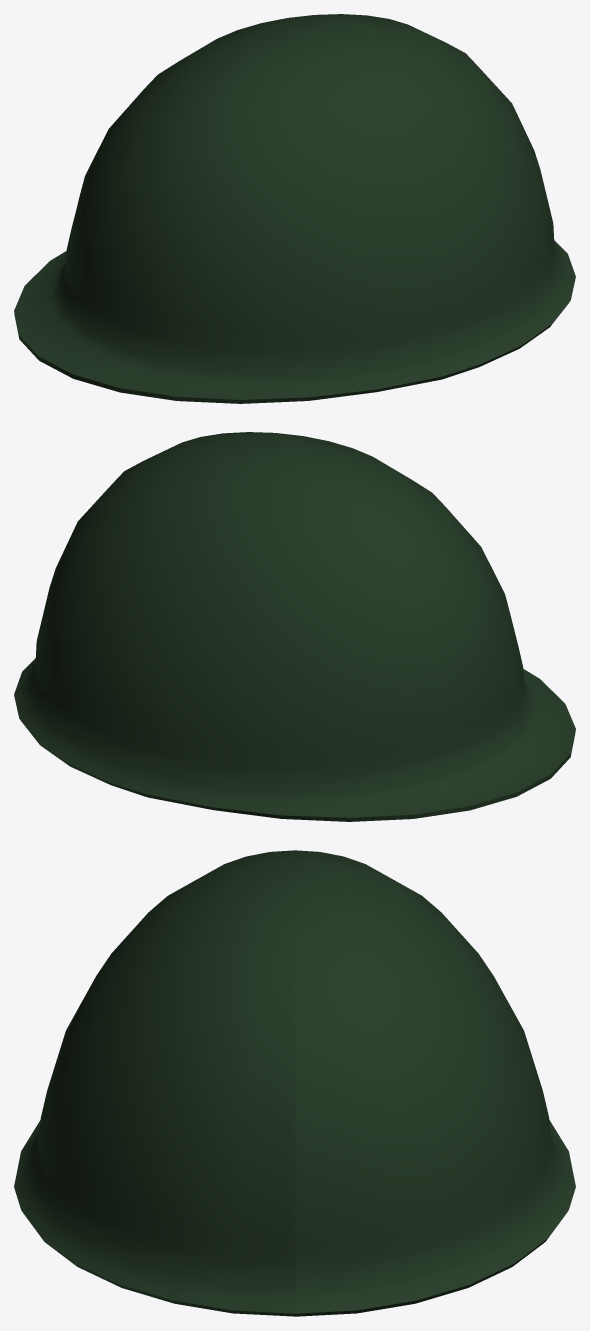
File: Helmet.FBX
3 views of the same model, one above another, from view 1: azimuth 30°, elevation 25°; view 2: azimuth 150°, elevation 25°; view 3: azimuth 270°, elevation 25° (orthographic). The views are drawn at different scales.
Parts seen in each view (by area): view 1: Helmet; view 2: Helmet; view 3: Helmet.
Boxes of the visible parts, x1=… form: Helmet: x1=14, y1=14, x2=575, y2=403; Helmet: x1=14, y1=432, x2=575, y2=821; Helmet: x1=14, y1=850, x2=575, y2=1316.
Size of the model in its own units: 34.45 by 16.88 by 28.57.
